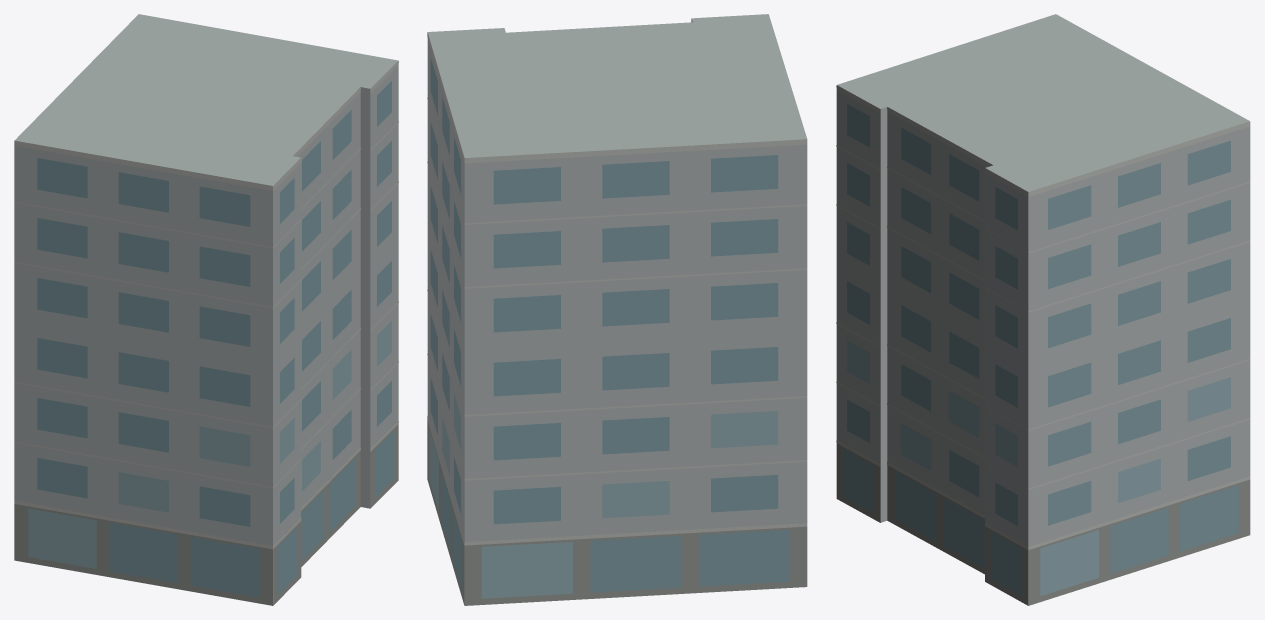
The model's file is survey-upis-32645908.glb.
3 renders of one model, left to right at view 1: azimuth 30°, elevation 25°; view 2: azimuth 150°, elevation 25°; view 3: azimuth 270°, elevation 25°, orthographic. The views are drawn at different scales.
Parts seen in each view (by area): view 1: survey-upis-32645908.tmp; view 2: survey-upis-32645908.tmp; view 3: survey-upis-32645908.tmp.
Part boxes in pixels (x1,y1,x2,y2): survey-upis-32645908.tmp: (14, 14, 398, 605); survey-upis-32645908.tmp: (427, 14, 807, 605); survey-upis-32645908.tmp: (836, 14, 1250, 605).
Size of the model in its own units: 18.7 by 20.25 by 18.36.
